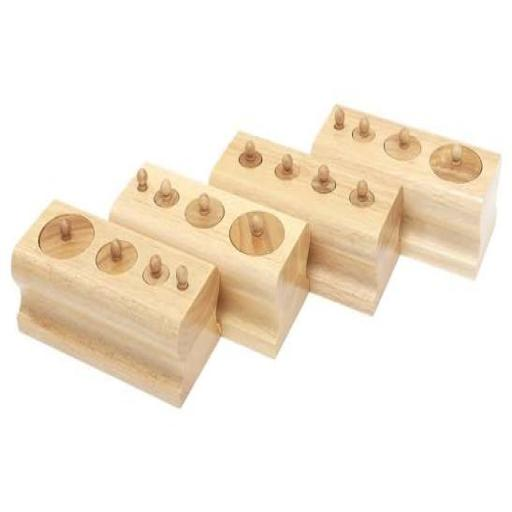pink tower: (9, 99, 505, 413)
